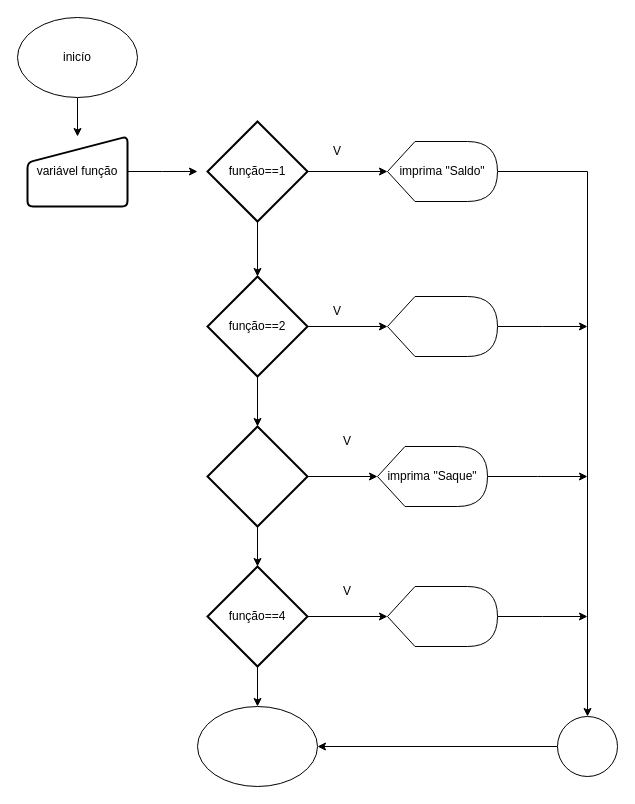
Image size: 635x804. Some labels were removed from this diagram. The centre of each missing label's shape, as x and y in pixels:
fim: point (257, 746)
função==3: point (257, 476)
imprima "Extrato": point (442, 326)
imprima "Sair": point (442, 616)
